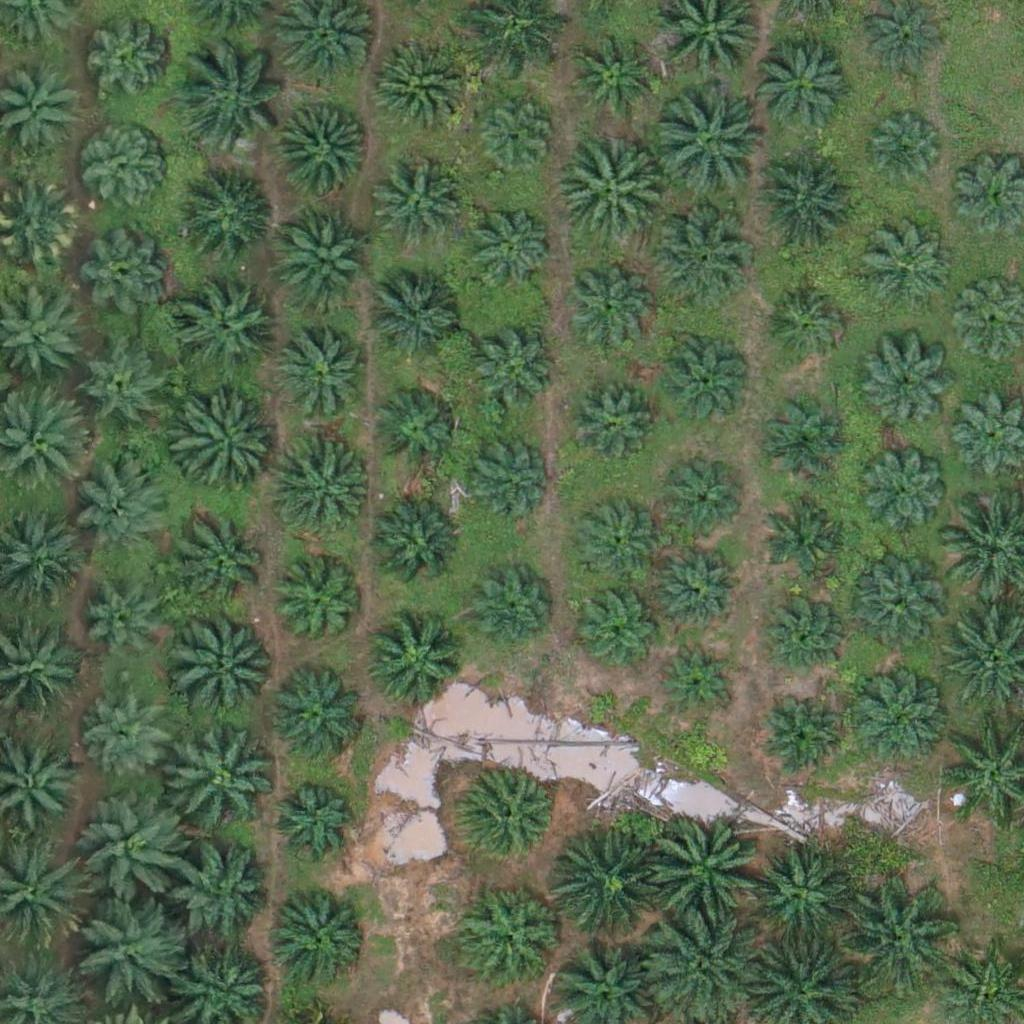Kelapa_Sawit: (70, 890, 183, 1004), (743, 153, 856, 266), (652, 90, 765, 203), (549, 832, 662, 945), (178, 46, 291, 159), (164, 721, 277, 834), (77, 796, 190, 909), (170, 606, 282, 720), (842, 878, 954, 991), (552, 134, 664, 247), (649, 815, 761, 928), (270, 883, 370, 984), (848, 561, 948, 662), (752, 40, 852, 141), (649, 207, 749, 308), (749, 842, 849, 943), (366, 36, 466, 137), (368, 265, 468, 366), (364, 497, 464, 598), (365, 613, 465, 714), (274, 441, 374, 542), (178, 169, 278, 270), (174, 281, 274, 382), (174, 397, 274, 498), (461, 884, 561, 984), (172, 849, 272, 949), (847, 667, 947, 767), (459, 769, 559, 869), (273, 103, 373, 203), (274, 208, 374, 308), (267, 669, 367, 769), (176, 513, 276, 613), (77, 457, 177, 557), (860, 347, 948, 435), (860, 448, 948, 536), (474, 93, 562, 181), (463, 200, 551, 288), (467, 328, 555, 416), (460, 430, 548, 518), (562, 378, 650, 466), (660, 333, 748, 421), (759, 696, 847, 784), (761, 279, 849, 367), (376, 161, 464, 249), (276, 563, 364, 651), (268, 776, 356, 864), (568, 36, 656, 124), (467, 565, 554, 653), (577, 582, 664, 670), (573, 497, 660, 585), (564, 261, 651, 349), (658, 458, 745, 546), (659, 542, 746, 630), (757, 586, 844, 674), (765, 489, 852, 577), (757, 392, 844, 480), (863, 224, 950, 312), (372, 383, 459, 471), (281, 327, 368, 415), (84, 21, 171, 109), (81, 130, 168, 218), (84, 229, 171, 317), (81, 346, 168, 434), (81, 590, 168, 678), (86, 695, 173, 783), (867, 114, 942, 190), (660, 639, 735, 715)
